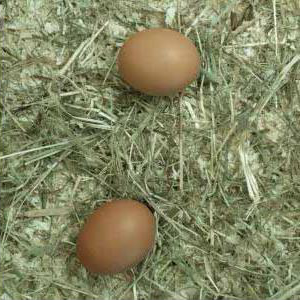egg: (77, 197, 157, 277), (118, 28, 200, 96)
